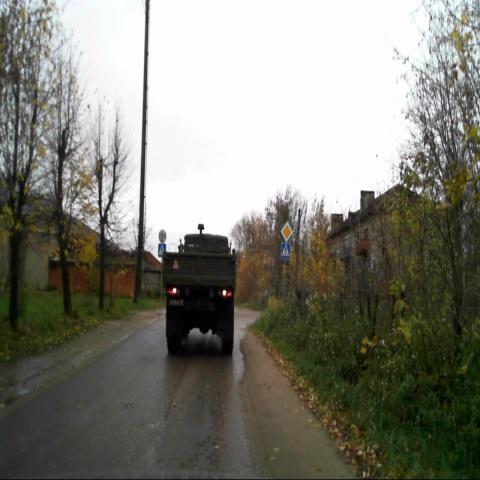2_1: (281, 220, 292, 242)
